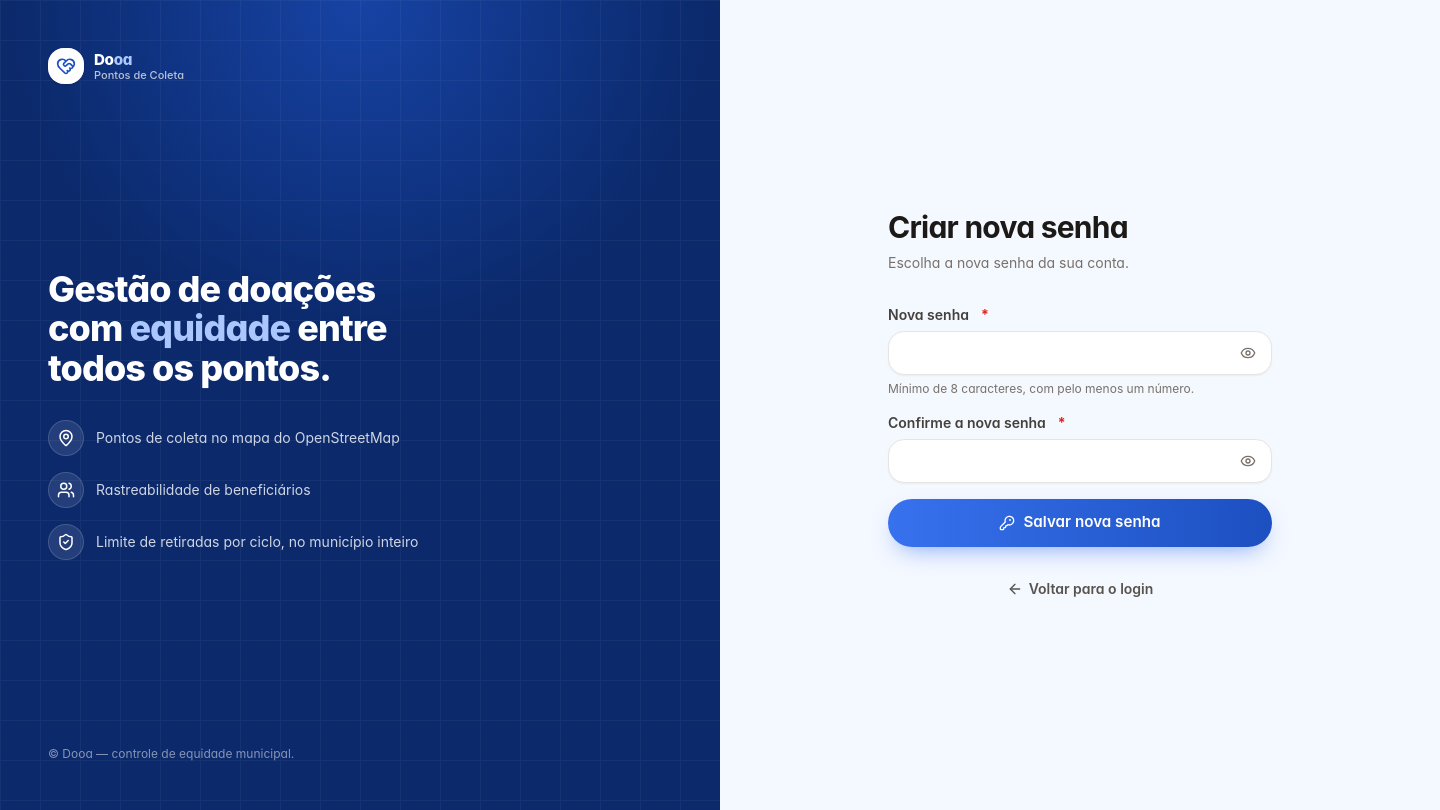
ResetPasswordPage › envia o token do link junto com a nova senha
Type "SenhaNova2" into the password field labelled "Nova senha" at (1080, 352), box 888,330 -> 1272,374
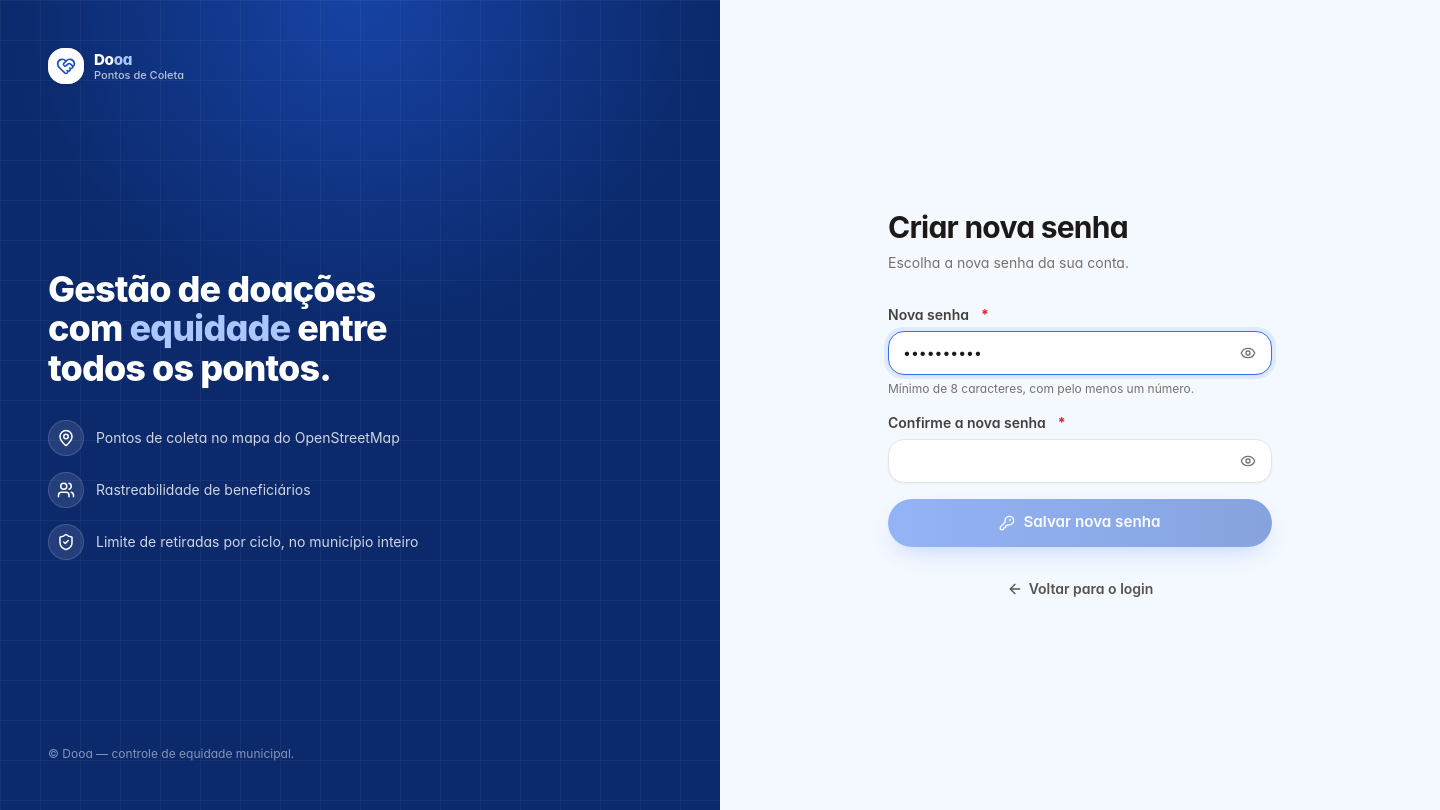
Type "SenhaNova2" into the password field labelled "Confirme a nova senha" at (1080, 460), box 888,438 -> 1272,482
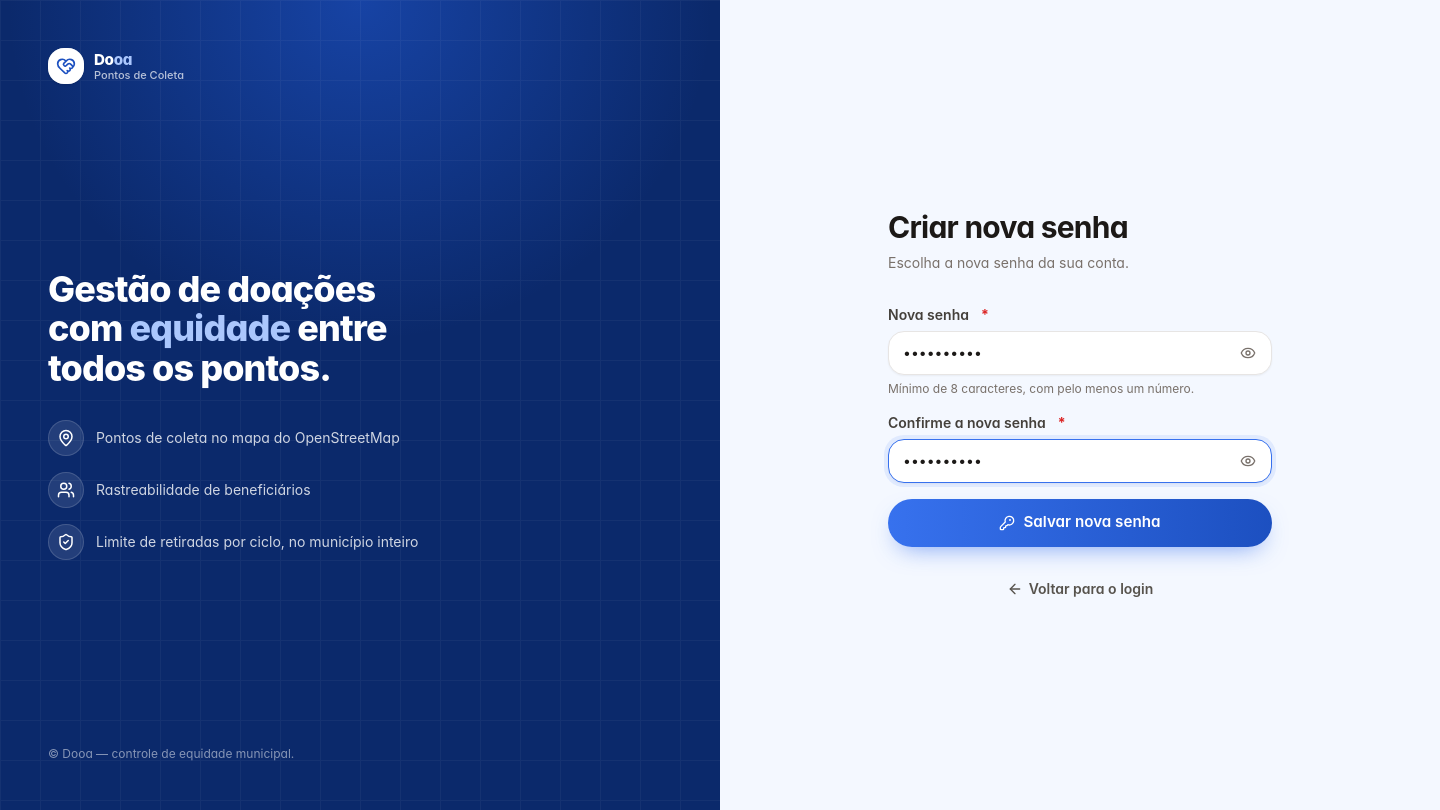
Click the button "Salvar nova senha" at (1080, 522), box 888,498 -> 1272,546
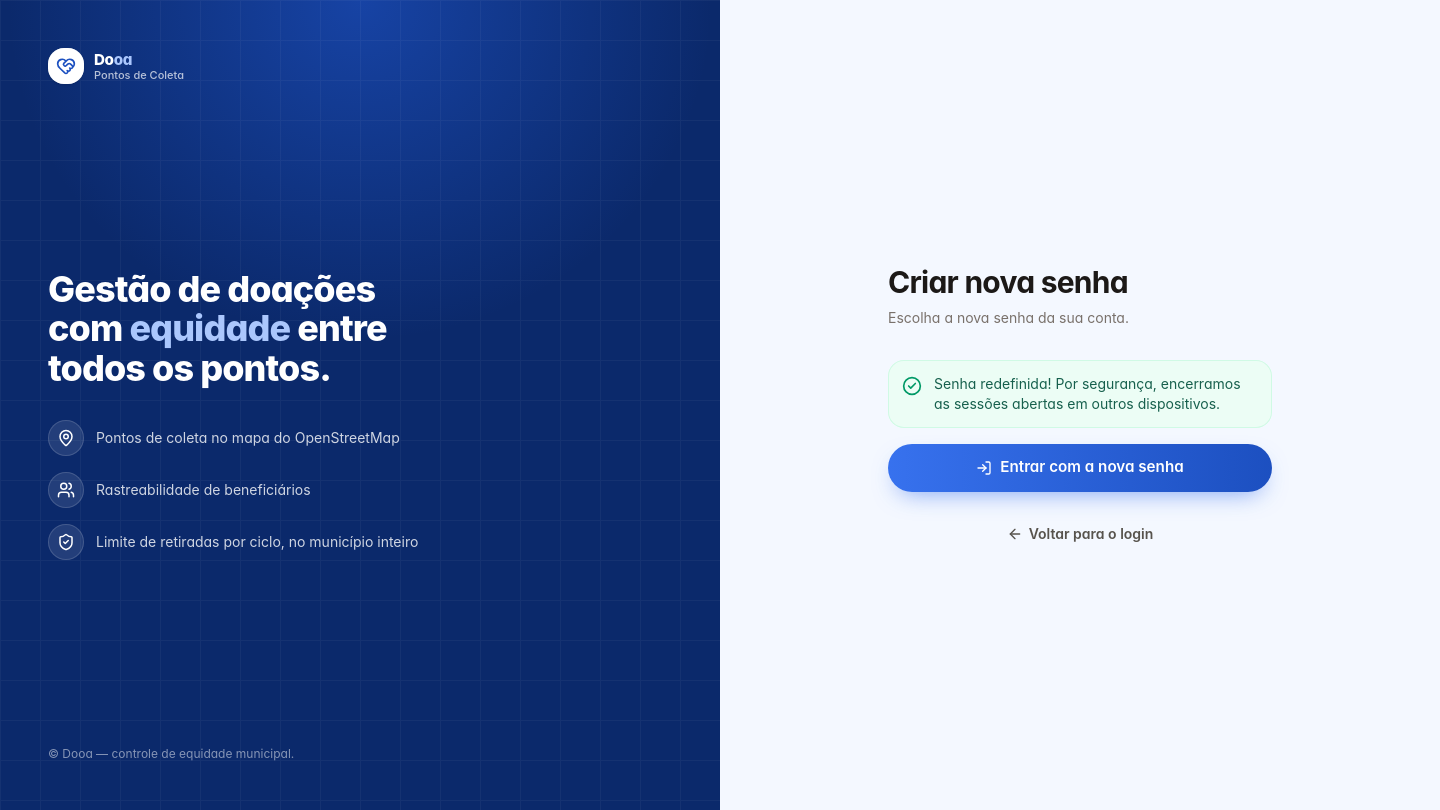
Expected: the text "Senha redefinida!" is shown, 934,374 -> 1240,412
Expected: the button "Entrar com a nova senha" is shown, 888,444 -> 1272,492
